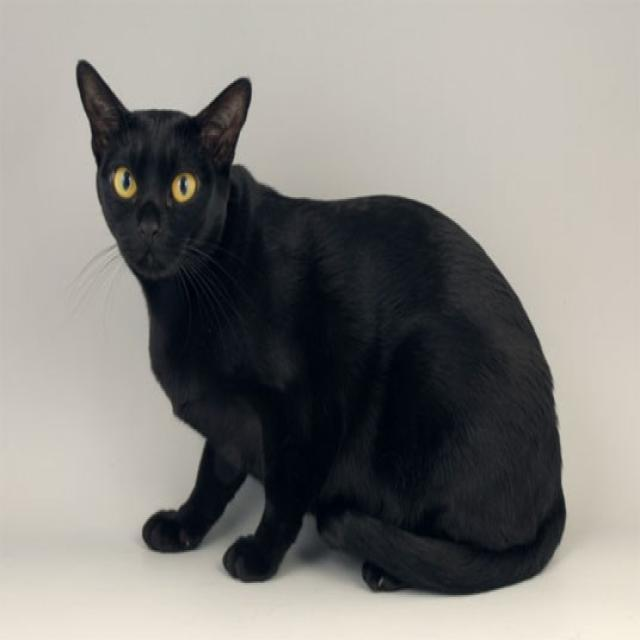Bombay: (76, 55, 255, 301)
